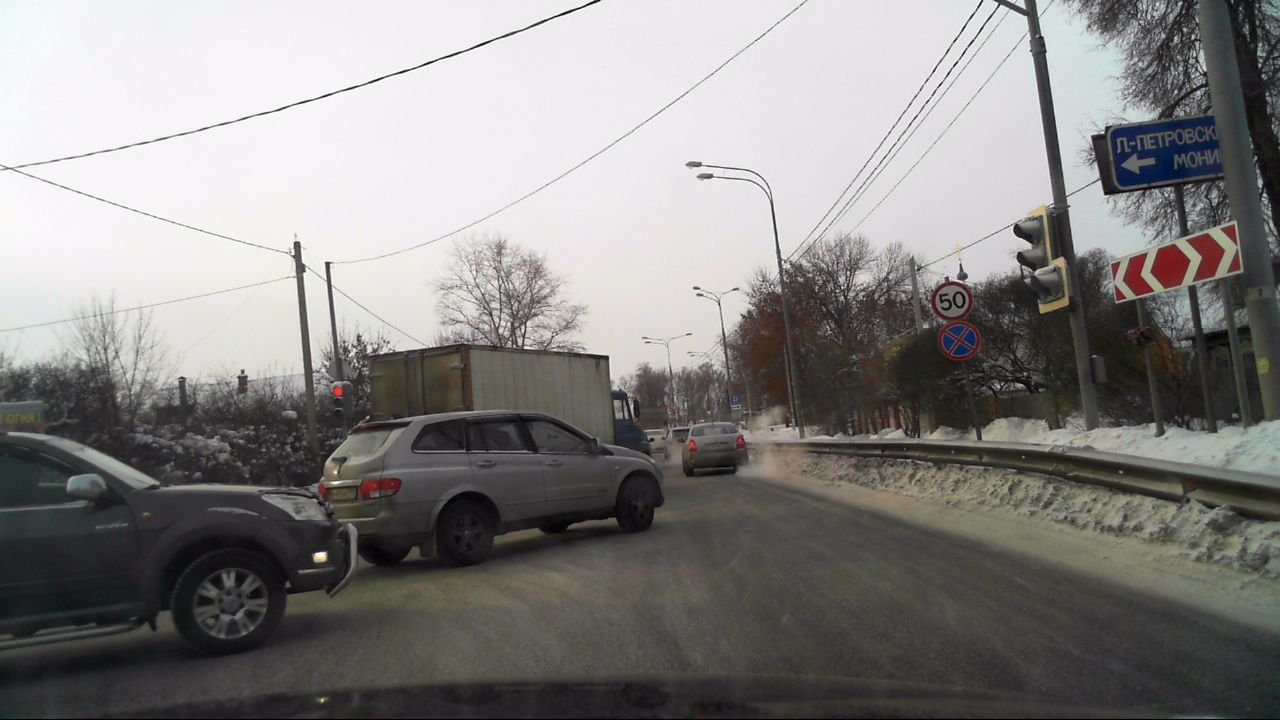No Parking: (940, 321, 978, 358)
